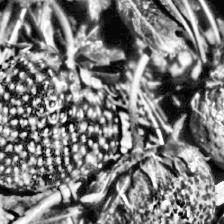Gray Mold: (81, 114, 219, 224), (192, 52, 224, 153)
